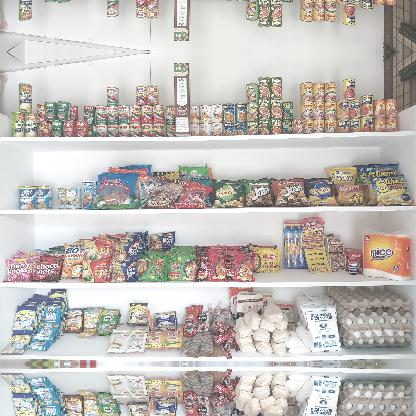Koko-Krunch: (174, 62, 190, 136), (174, 0, 191, 43)
